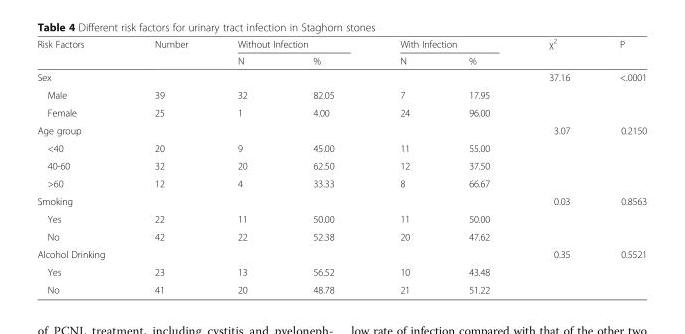table: (36, 36, 646, 294)
table column: (36, 36, 129, 294), (279, 36, 366, 294), (129, 36, 212, 294), (438, 36, 518, 294), (518, 36, 594, 294), (366, 36, 438, 294), (212, 36, 279, 294), (594, 36, 646, 294)
table column header: (36, 36, 646, 68)
table row: (36, 85, 646, 103), (36, 103, 646, 121), (36, 138, 646, 156), (36, 156, 646, 174), (36, 174, 646, 192), (36, 209, 646, 227), (36, 227, 646, 245), (36, 262, 646, 280), (36, 68, 646, 85), (36, 121, 646, 138), (36, 192, 646, 209), (36, 245, 646, 262), (36, 36, 646, 52), (36, 52, 646, 68), (36, 280, 646, 294)
table spanning cell: (36, 36, 129, 68), (129, 36, 212, 68), (212, 36, 366, 52), (366, 36, 518, 52), (518, 36, 594, 68), (594, 36, 646, 68)
